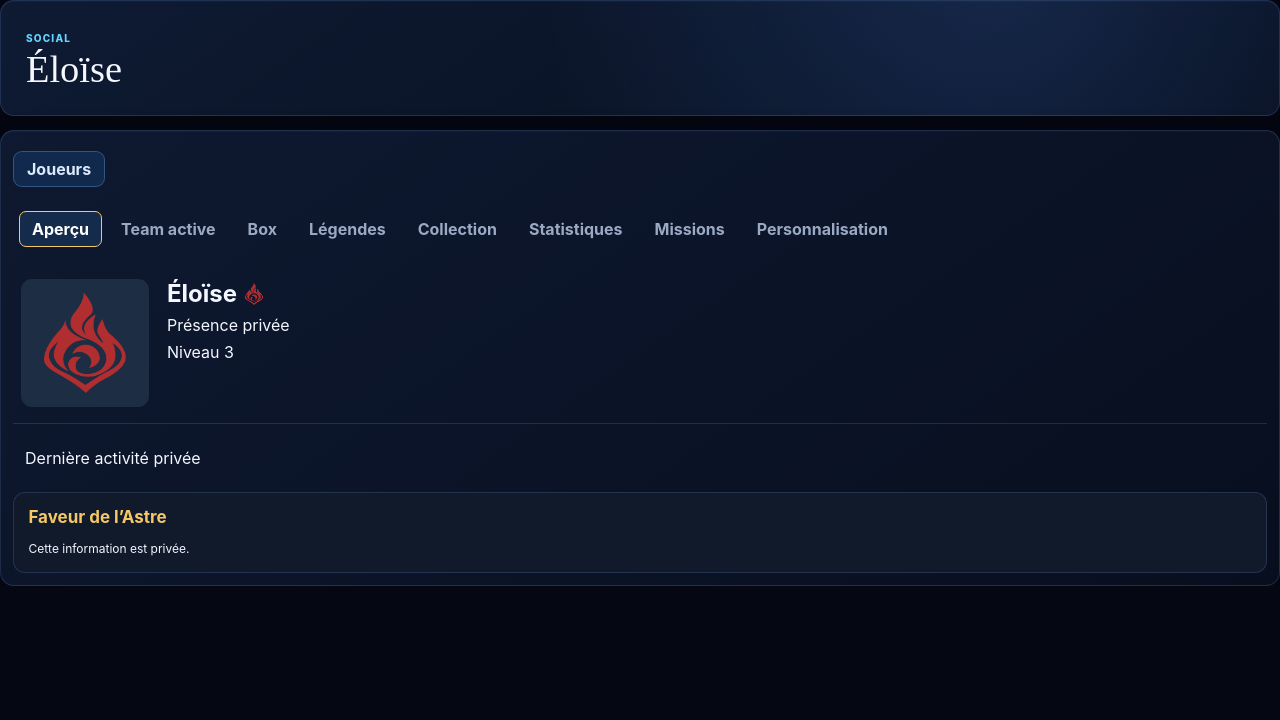
Test: Social UI › distinguishes private sections from empty possessions and exposes no mutation controls
Click the button "Team active": (168,229) top-left (108, 211), bottom-right (229, 247)
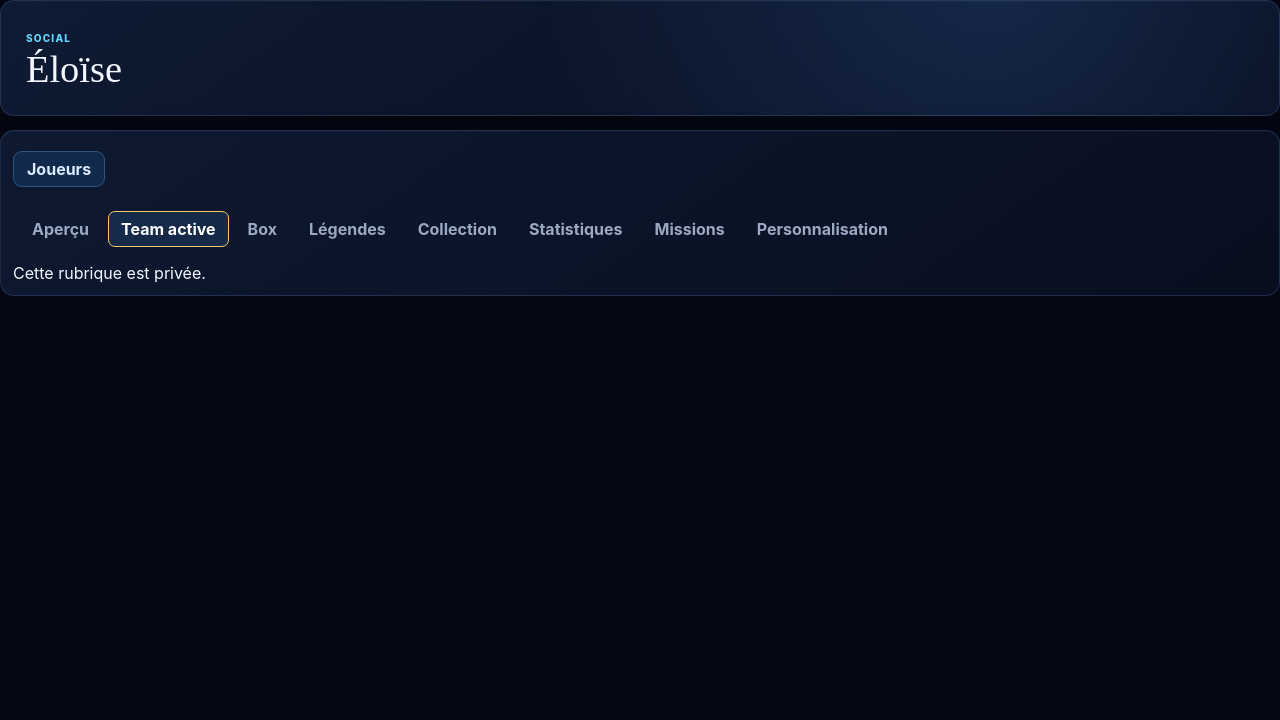
Expected: the text "Cette rubrique est privée." is shown, top-left (13, 263), bottom-right (206, 283)
Click the button "Box": (262,229) top-left (235, 211), bottom-right (290, 247)
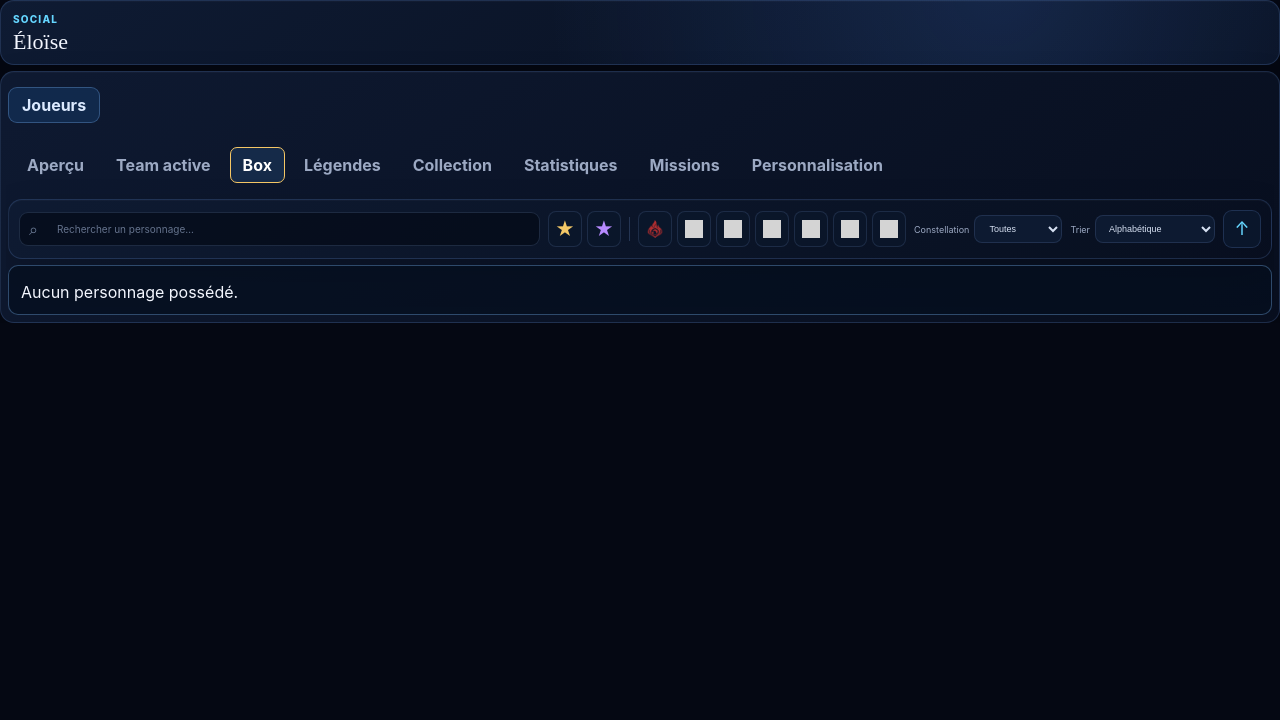
Expected: the text "Stella" is not shown
Expected: the text "Aucun personnage possédé." is shown, top-left (21, 282), bottom-right (238, 302)
